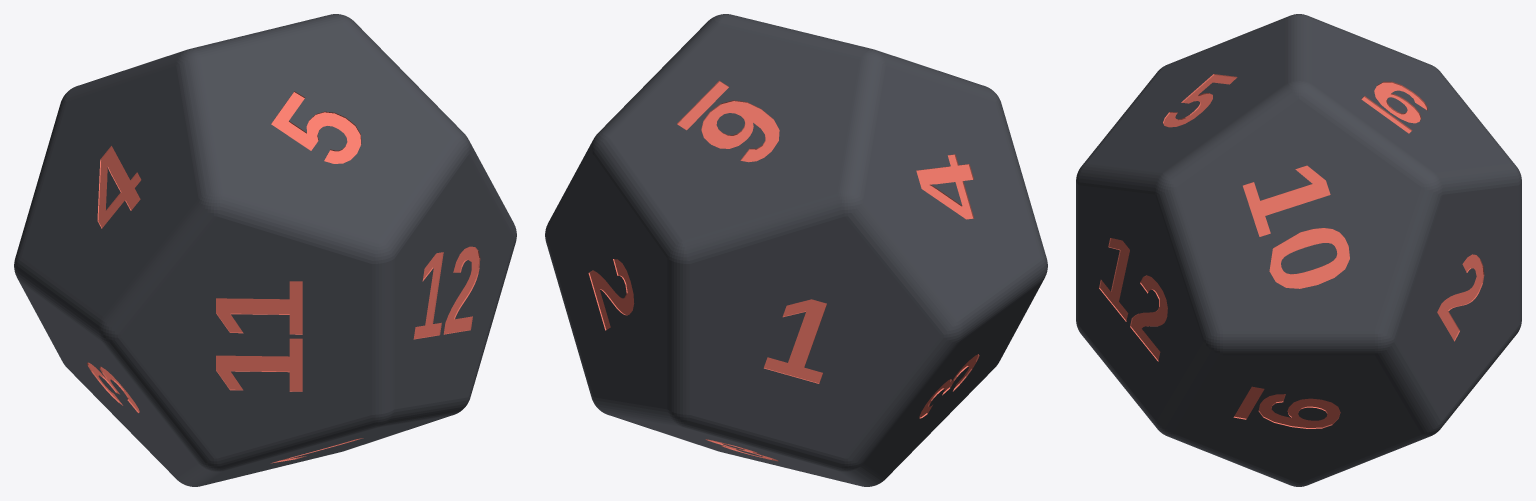
3 renders of one model, left to right at view 1: azimuth 30°, elevation 25°; view 2: azimuth 150°, elevation 25°; view 3: azimuth 270°, elevation 25°, orthographic. The views are drawn at different scales.
Parts seen in each view (by area): view 1: d12; view 2: d12; view 3: d12.
Boxes of the visible parts, box(x1,y1,x2,y2) form: d12: box(14, 14, 516, 486); d12: box(545, 14, 1047, 486); d12: box(1076, 14, 1521, 486).
Bounding box in the file's own units: 18.45 × 18.45 × 18.45.
